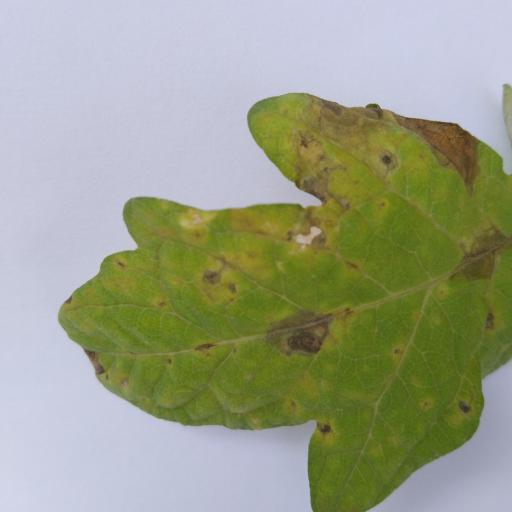disease_tomato: (62, 90, 512, 512)
